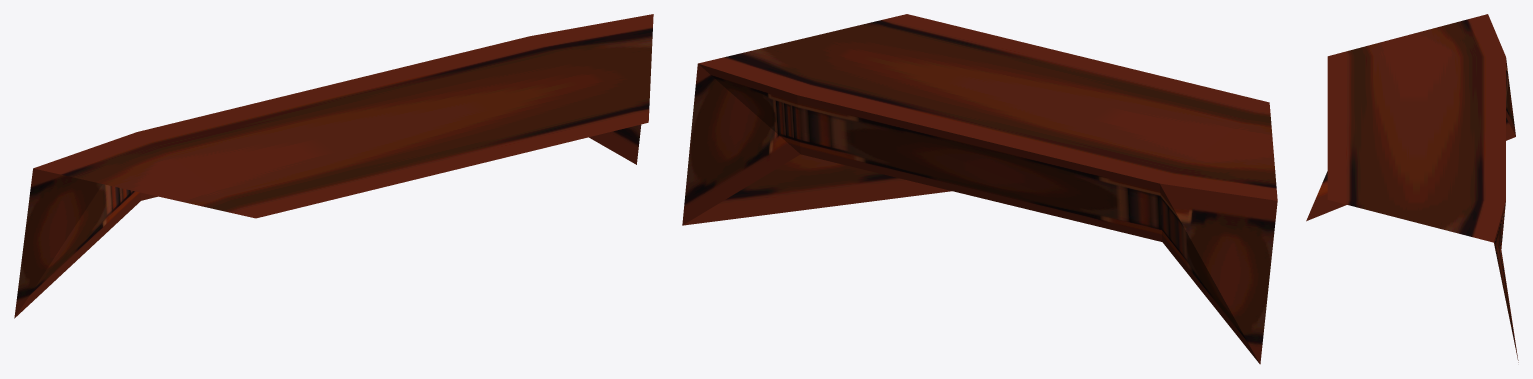
The model's file is Empfang_433.glb.
The picture shows the model from 3 angles, left to right: view 1: azimuth 30°, elevation 25°; view 2: azimuth 150°, elevation 25°; view 3: azimuth 270°, elevation 25°; orthographic projection. The views are drawn at different scales.
Parts seen in each view (by area): view 1: pPlaneShape8, pPlaneShape10; view 2: pPlaneShape8, pPlaneShape10, pPlaneShape9; view 3: pPlaneShape8, pPlaneShape10, pPlaneShape9.
Boxes of the visible parts, x1,y1,x2,y2 form: pPlaneShape8: (34, 14, 653, 218); pPlaneShape10: (14, 124, 641, 318); pPlaneShape8: (698, 14, 1277, 200); pPlaneShape10: (682, 63, 1277, 364); pPlaneShape9: (683, 154, 951, 225); pPlaneShape8: (1327, 14, 1505, 242); pPlaneShape10: (1494, 58, 1518, 362); pPlaneShape9: (1306, 117, 1515, 221).
Size of the model in its own units: 0.4953 by 0.1244 by 0.1954.
Materials: 3 (3 with a texture image).
